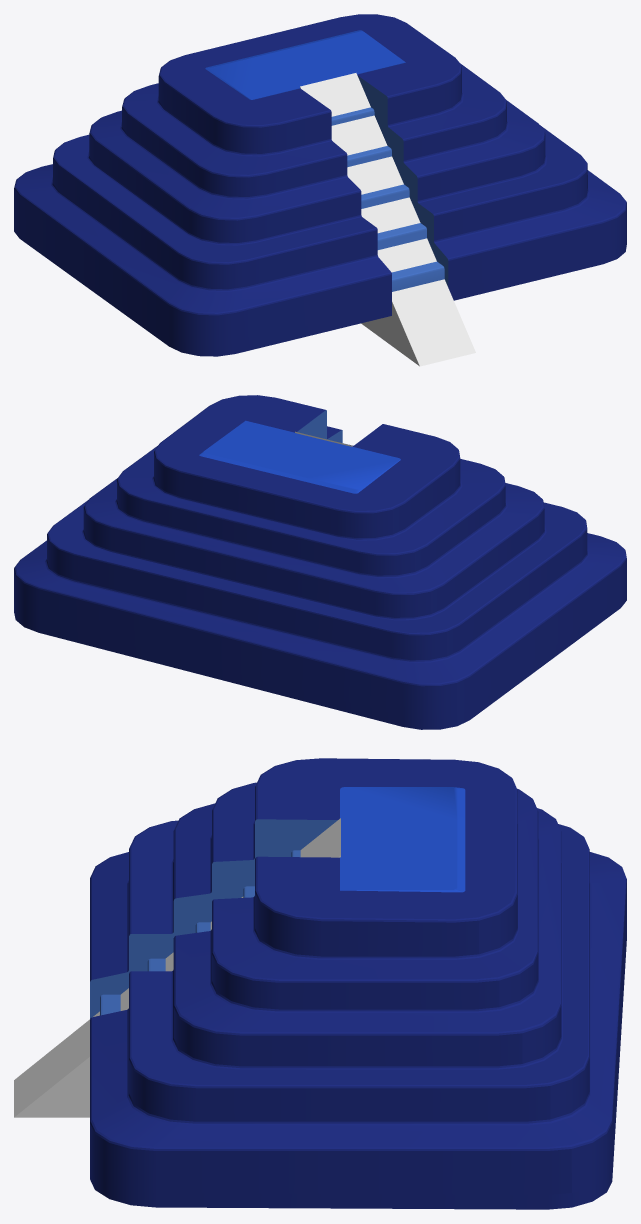
File: buel_newwstairs.fbx
3 views of the same model, one above another, from view 1: azimuth 30°, elevation 25°; view 2: azimuth 150°, elevation 25°; view 3: azimuth 270°, elevation 25° (orthographic). The views are drawn at different scales.
Visible parts, largest first — view 1: mound.001, ramp, base, stairs; view 2: mound.001, base; view 3: mound.001, base, ramp, stairs.
Boxes of the visible parts, x1,y1,x2,y2 form: mound.001: [14, 14, 626, 356]; ramp: [300, 73, 475, 366]; base: [205, 30, 405, 99]; stairs: [331, 107, 444, 291]; mound.001: [14, 395, 626, 729]; base: [199, 420, 400, 493]; mound.001: [90, 758, 626, 1209]; base: [340, 787, 465, 892]; ramp: [14, 818, 340, 1117]; stairs: [100, 850, 300, 1015].
Bounding box in the file's own units: 319 × 130 × 275.
